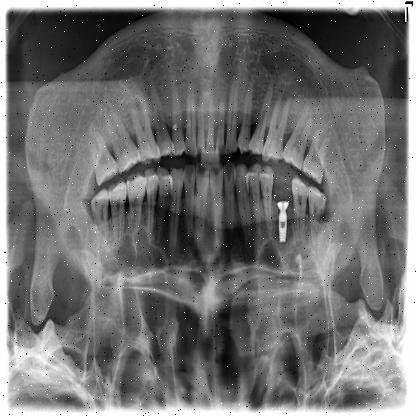Bicon: (277, 211, 287, 246)
